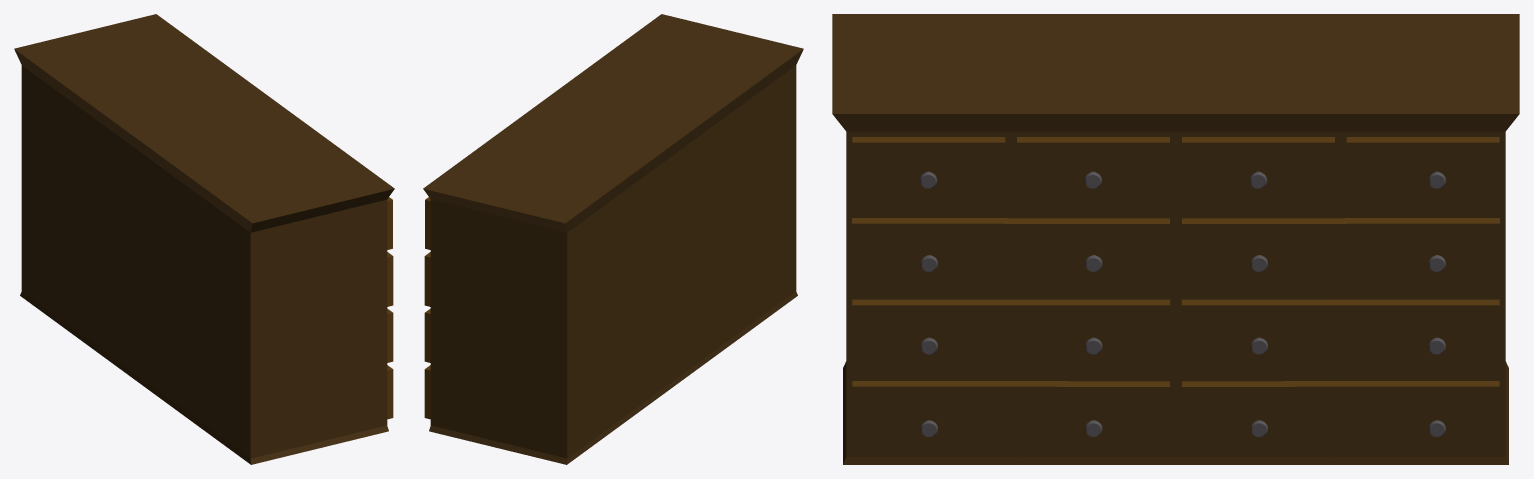
The model's file is Dresser (1).fbx.
3 views of the same model, side by side, from view 1: azimuth 30°, elevation 25°; view 2: azimuth 150°, elevation 25°; view 3: azimuth 270°, elevation 25° (orthographic). The views are drawn at different scales.
Parts seen in each view (by area): view 1: Dresser; view 2: Dresser; view 3: Dresser.
Boxes of the visible parts, x1,y1,x2,y2 form: Dresser: [14, 14, 394, 464]; Dresser: [423, 14, 803, 464]; Dresser: [832, 14, 1519, 464].
Bounding box in the file's own units: 107 × 162 × 286.
